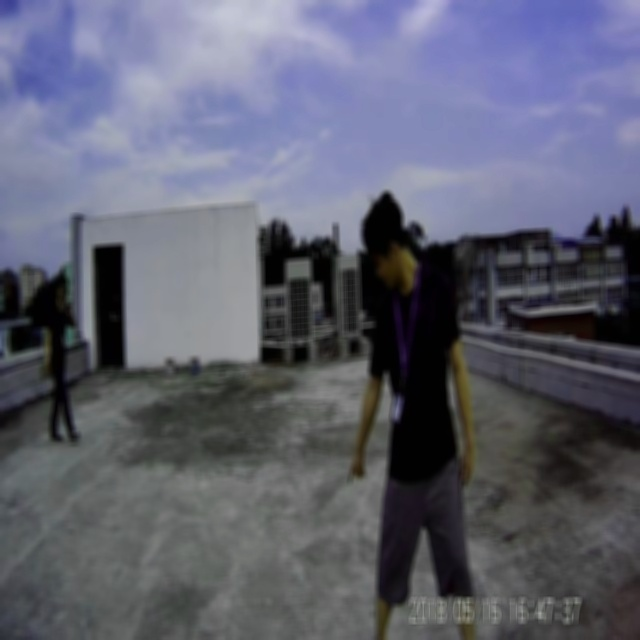Sin_Casco_Mascarrilla: (359, 190, 409, 286)
